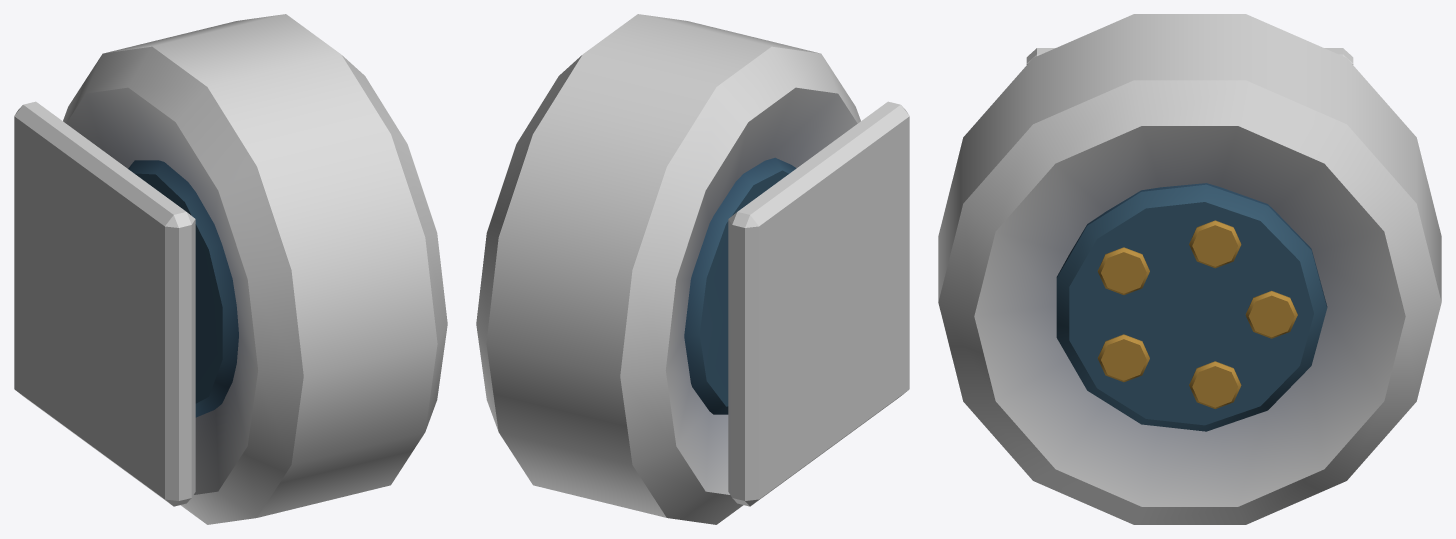
Rendered from R4M_WheelM_Side_Offroad.fbx.
3 renders of one model, left to right at view 1: azimuth 30°, elevation 25°; view 2: azimuth 150°, elevation 25°; view 3: azimuth 270°, elevation 25°, orthographic.
Parts seen in each view (by area): view 1: R4M_WheelM_Side_Offroad_Rotor, R4M_WheelM_Side_Offroad_Mount; view 2: R4M_WheelM_Side_Offroad_Rotor, R4M_WheelM_Side_Offroad_Mount; view 3: R4M_WheelM_Side_Offroad_Rotor.
Part boxes in pixels (bbox=[...]): R4M_WheelM_Side_Offroad_Rotor: bbox=[63, 14, 447, 524]; R4M_WheelM_Side_Offroad_Mount: bbox=[14, 101, 195, 506]; R4M_WheelM_Side_Offroad_Rotor: bbox=[476, 14, 860, 524]; R4M_WheelM_Side_Offroad_Mount: bbox=[728, 101, 909, 506]; R4M_WheelM_Side_Offroad_Rotor: bbox=[938, 14, 1441, 524].
Bounding box in the file's own units: 0.452 × 0.7507 × 0.77.
